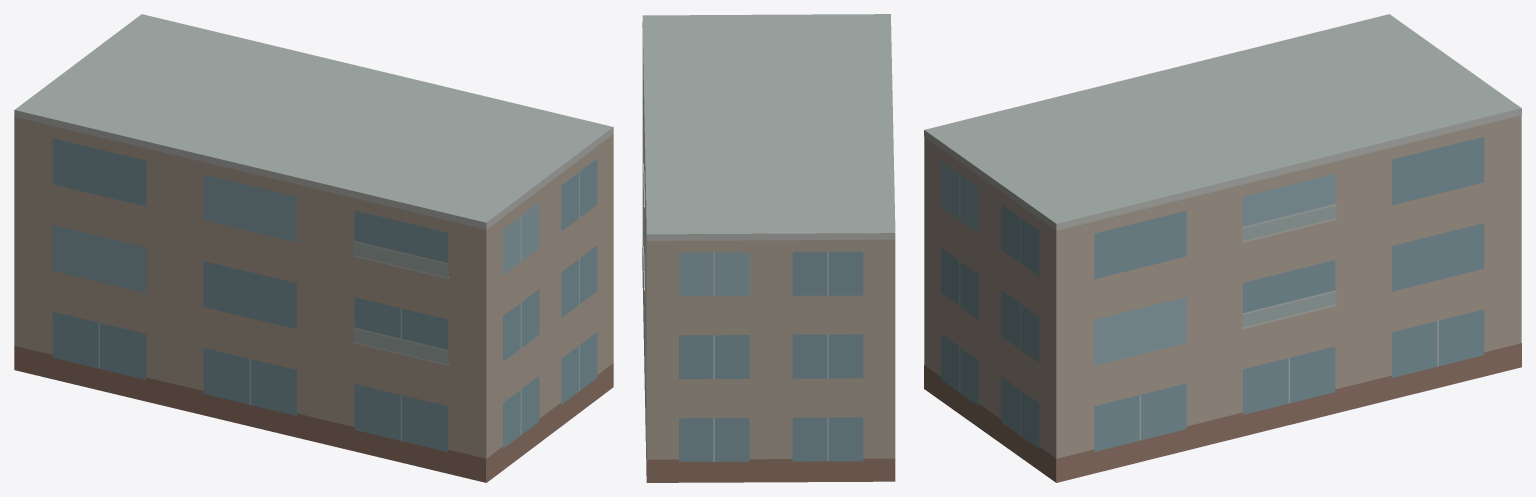
Rendered from survey-upis-32705847.glb.
3 renders of one model, left to right at view 1: azimuth 30°, elevation 25°; view 2: azimuth 150°, elevation 25°; view 3: azimuth 270°, elevation 25°, orthographic. The views are drawn at different scales.
Parts seen in each view (by area): view 1: survey-upis-32705847.tmp; view 2: survey-upis-32705847.tmp; view 3: survey-upis-32705847.tmp.
Part boxes in pixels (box(x1,y1,x2,y2)): survey-upis-32705847.tmp: box(14, 14, 613, 482); survey-upis-32705847.tmp: box(642, 14, 895, 482); survey-upis-32705847.tmp: box(924, 14, 1521, 482).
Size of the model in its own units: 15.91 by 9.15 by 19.14.
